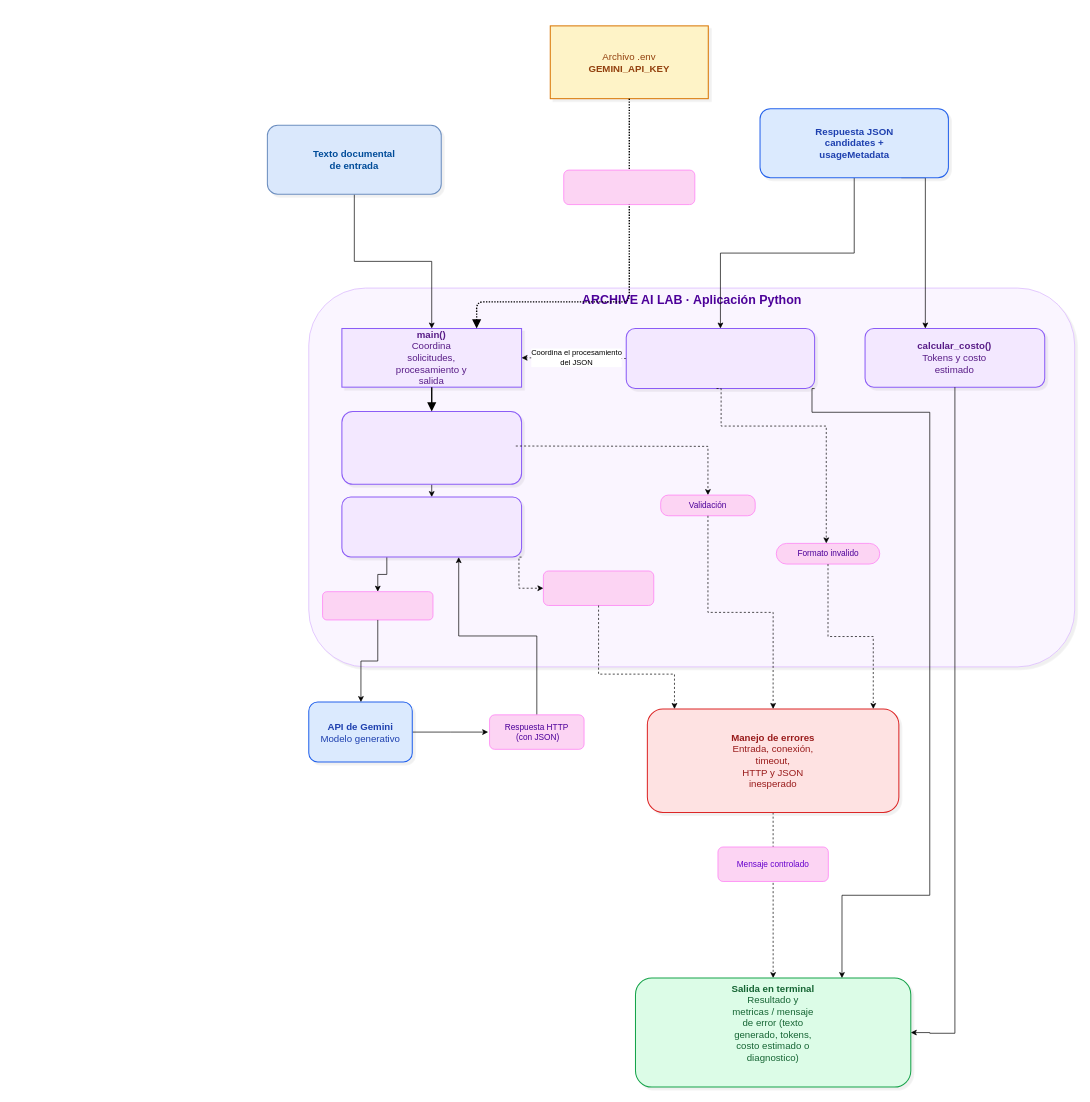
This 1090x1102 diagram has some shape labels left out. Here are the shapes that lost their labels. From the top down, the centre of each, then its label:
(x=629, y=187): Clave cargada en main()
(x=721, y=360): extraer_respuesta() Extrae y valida el texto
(x=433, y=449): preparar_solicitud( ) Valida y construye el JSON
(x=433, y=528): consultar_gemini() Envía petición HTTP
(x=377, y=605): HTTP POST + JSON (solicitud a la API)
(x=598, y=587): Error HTTP o de red
